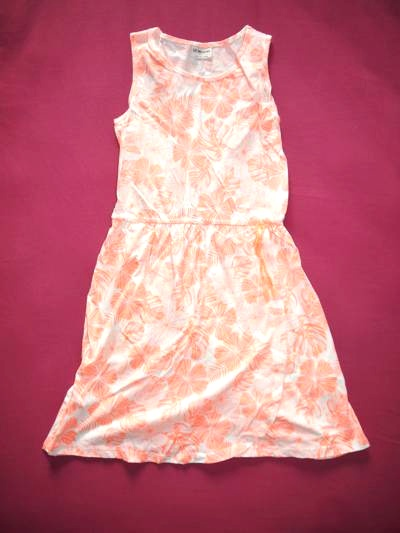Dress: (34, 21, 371, 470)
